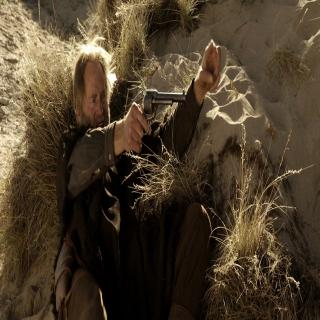gun: (128, 84, 188, 152)
